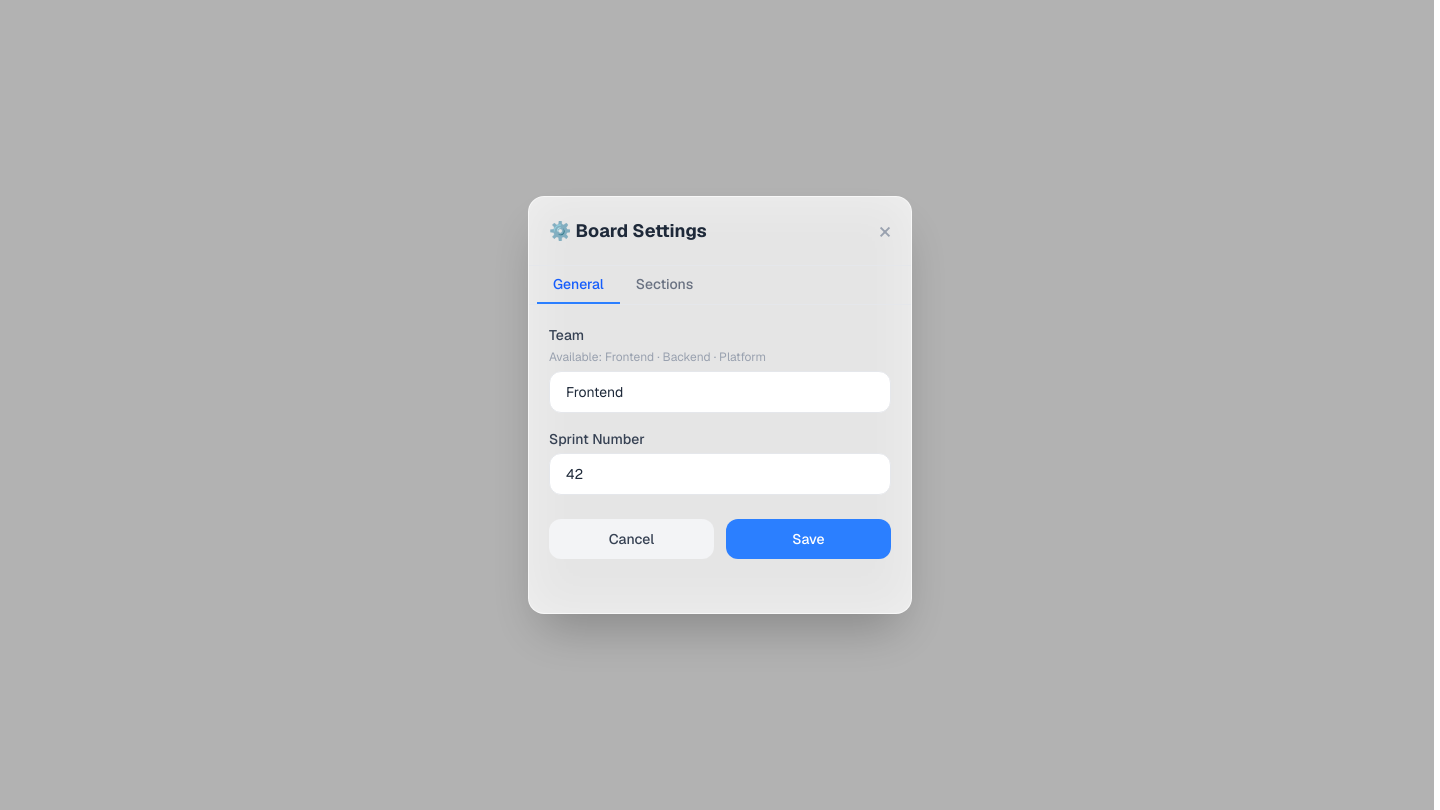
Test: BoardSettingsModal › shows validation error for invalid team name
The width and height of the screenshot is (1440, 810).
Replace the text in the field showing "Frontend" with "InvalidTeam" at (720, 392), box [549,371,891,413]
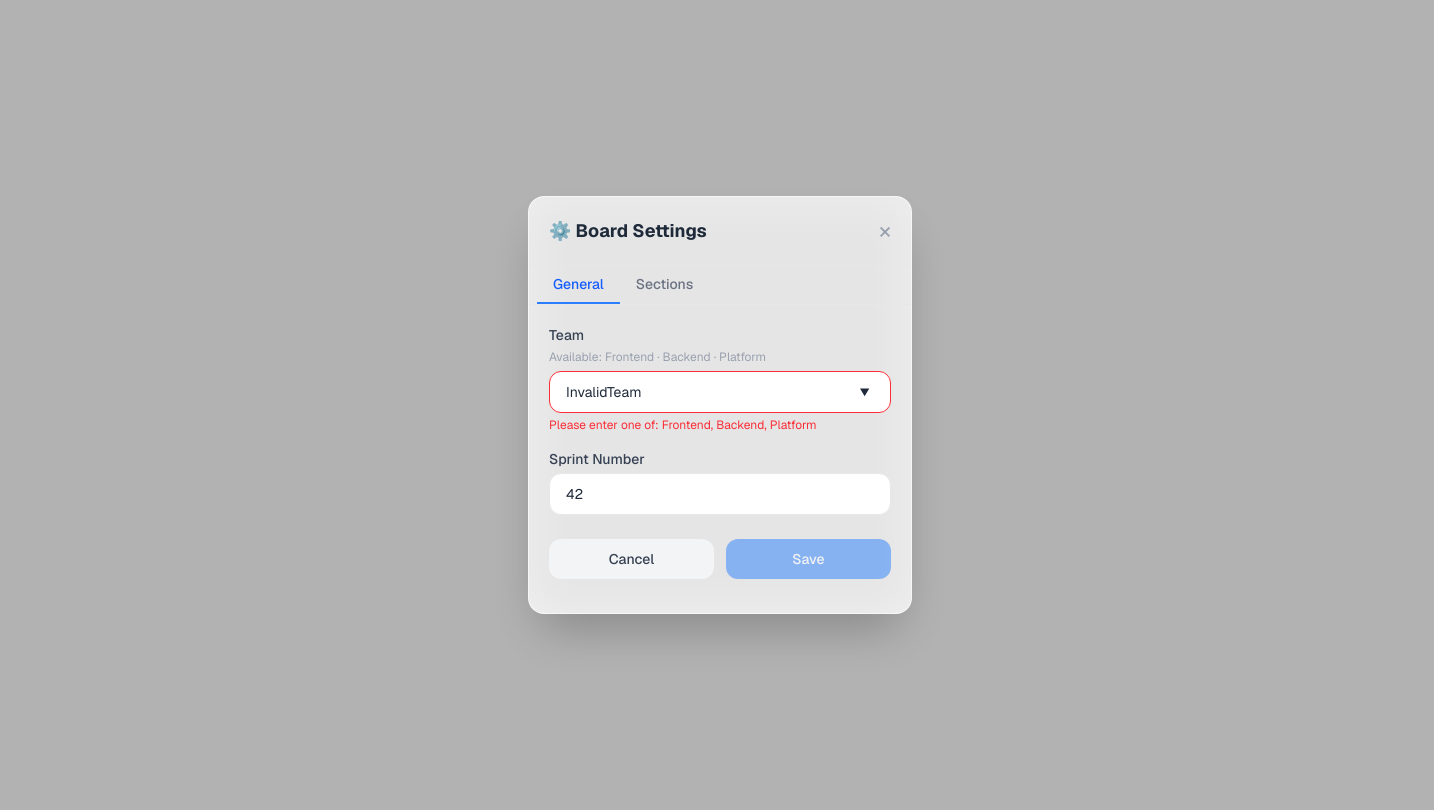
Expected: the text "Please enter one of: Frontend, Backend, Platform" is shown, [549,417,817,433]
